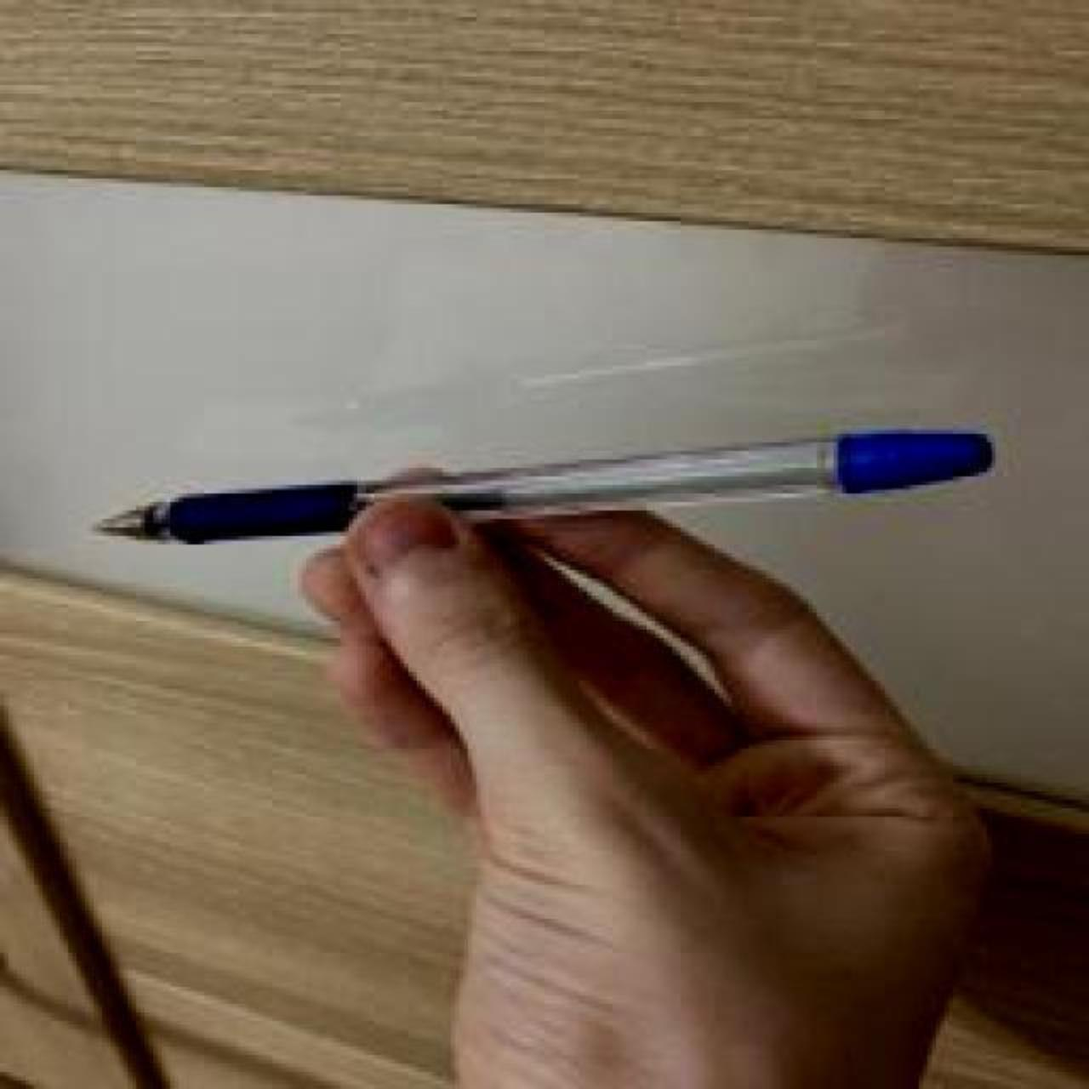pen: (88, 425, 990, 544)
